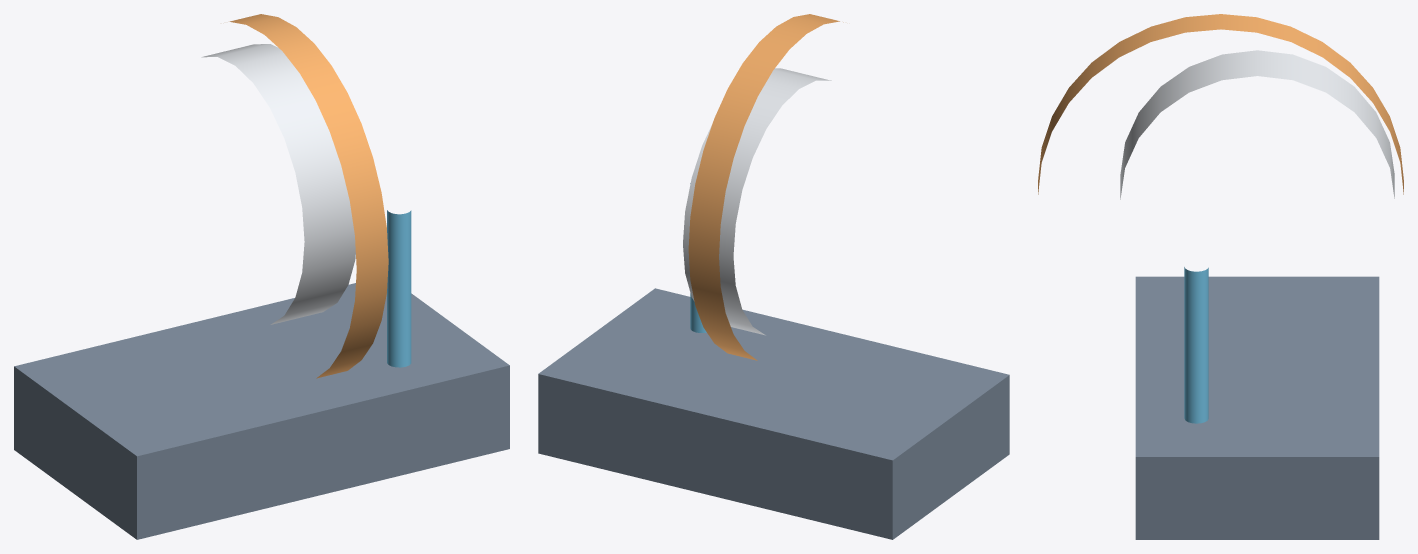
Rendered from grinding_wheel_abrasives.glb.
The picture shows the model from 3 angles, left to right: view 1: azimuth 30°, elevation 25°; view 2: azimuth 150°, elevation 25°; view 3: azimuth 270°, elevation 25°; orthographic projection. The views are drawn at different scales.
Visible parts, largest first — view 1: MagneticChuckSurfaceTable, GrindingWheelHeadSpindle, VitrifiedAbrasiveWheelDisk, DiamondWheelDressingTool; view 2: MagneticChuckSurfaceTable, VitrifiedAbrasiveWheelDisk, GrindingWheelHeadSpindle; view 3: MagneticChuckSurfaceTable, GrindingWheelHeadSpindle, VitrifiedAbrasiveWheelDisk, DiamondWheelDressingTool.
Part boxes in pixels (x1=…): MagneticChuckSurfaceTable: x1=14, y1=283, x2=509, y2=539; GrindingWheelHeadSpindle: x1=201, y1=44, x2=355, y2=324; VitrifiedAbrasiveWheelDisk: x1=229, y1=14, x2=388, y2=378; DiamondWheelDressingTool: x1=387, y1=210, x2=411, y2=367; MagneticChuckSurfaceTable: x1=538, y1=288, x2=1009, y2=539; VitrifiedAbrasiveWheelDisk: x1=688, y1=14, x2=843, y2=360; GrindingWheelHeadSpindle: x1=683, y1=68, x2=831, y2=335; MagneticChuckSurfaceTable: x1=1135, y1=276, x2=1379, y2=539; GrindingWheelHeadSpindle: x1=1120, y1=50, x2=1394, y2=199; VitrifiedAbrasiveWheelDisk: x1=1038, y1=14, x2=1403, y2=194; DiamondWheelDressingTool: x1=1184, y1=267, x2=1208, y2=423.
Size of the model in its own units: 1.4 by 1.55 by 1.2.
